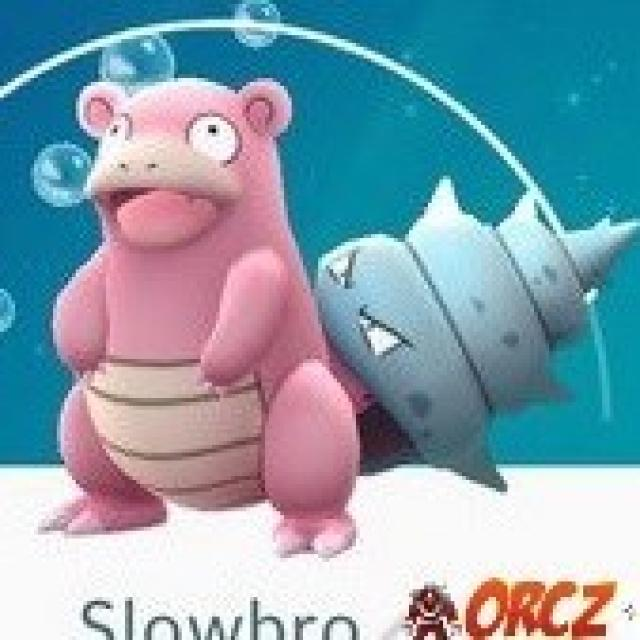Slowbro: (45, 73, 461, 559)
